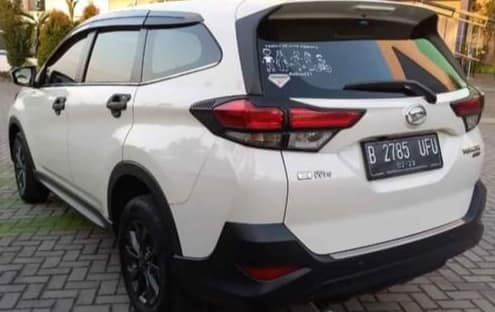plate: (359, 136, 446, 168)
